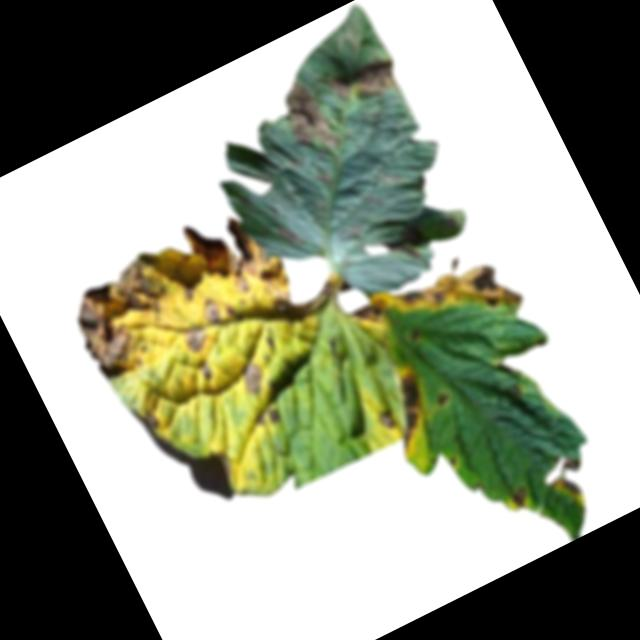Early_blight: (57, 246, 200, 387), (389, 240, 528, 358), (175, 192, 293, 322), (316, 45, 406, 120), (272, 73, 344, 163), (371, 367, 444, 454), (268, 273, 343, 332), (543, 452, 593, 506), (349, 293, 395, 337), (232, 357, 272, 400), (179, 322, 211, 354), (503, 481, 535, 513), (374, 404, 400, 434), (198, 297, 223, 325), (433, 389, 456, 413), (196, 359, 216, 386), (141, 407, 161, 429), (263, 405, 283, 427), (447, 453, 462, 472)
